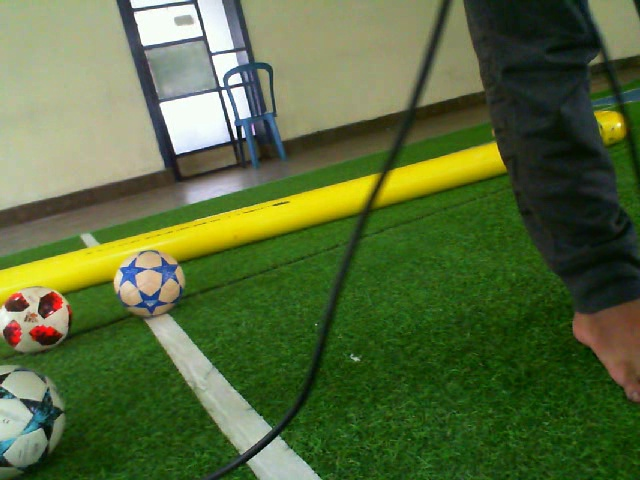ball: (1, 362, 69, 480), (112, 247, 188, 320), (1, 284, 74, 356)
